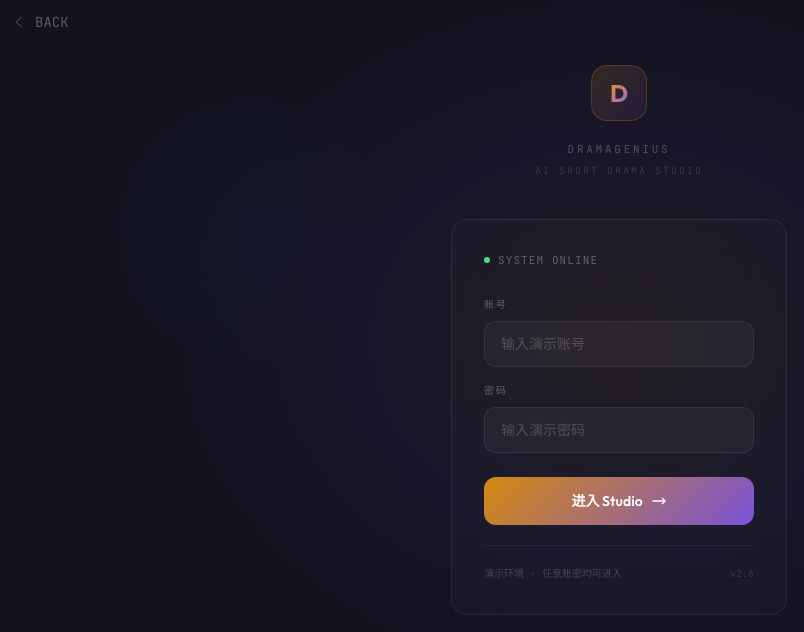
Test: LoginPage › 交互测试 › shows loading state during login
Type "test" into the field with placeholder "输入演示账号".
click(619, 344); type("test")  # box [484,321,754,367]
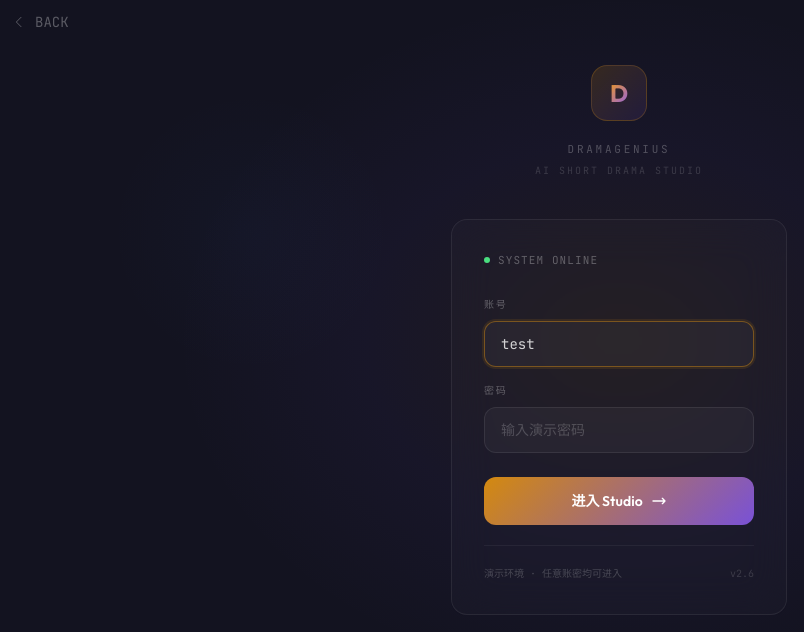
Type "pass" into the password field with placeholder "输入演示密码".
click(619, 430); type("pass")  # box [484,407,754,453]
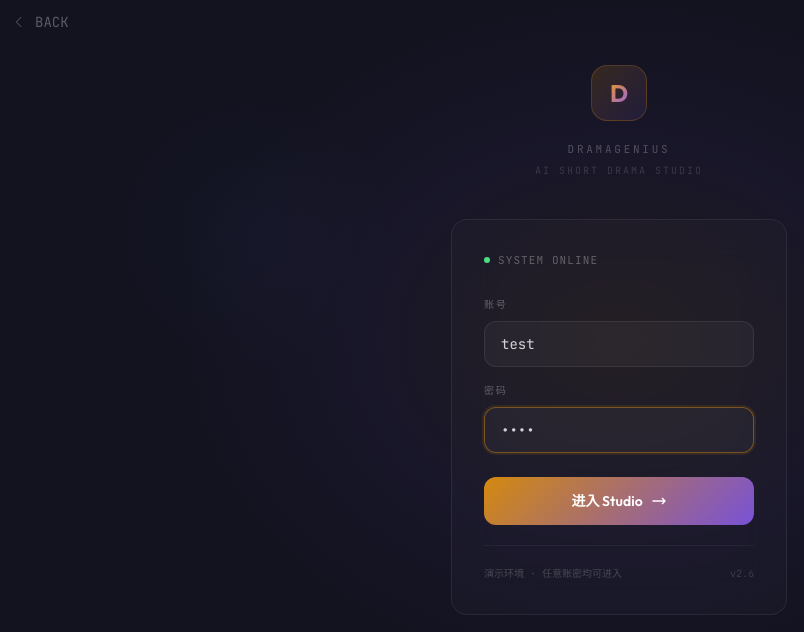
Click the button "进入 Studio".
click(619, 501)  # box [484,477,754,525]
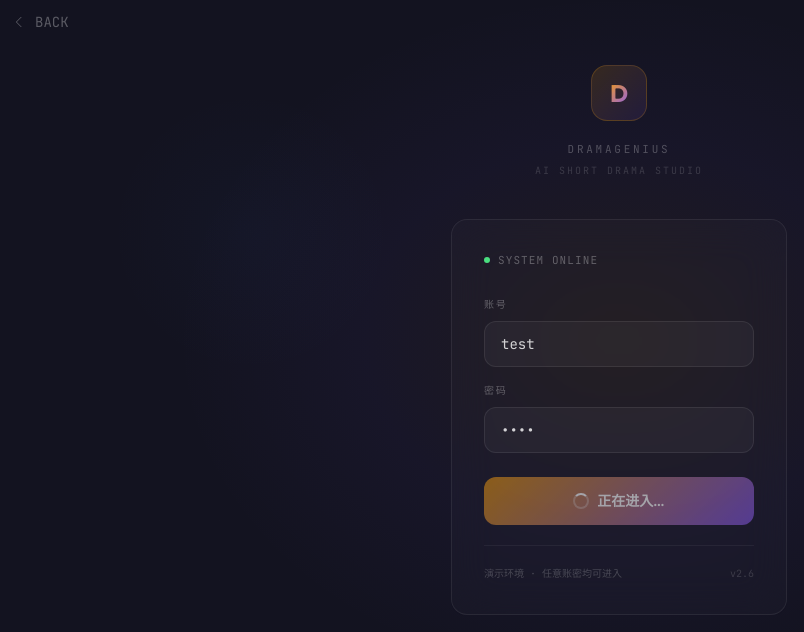
Result: the text "正在进入…" is shown at [573,492,665,510]
